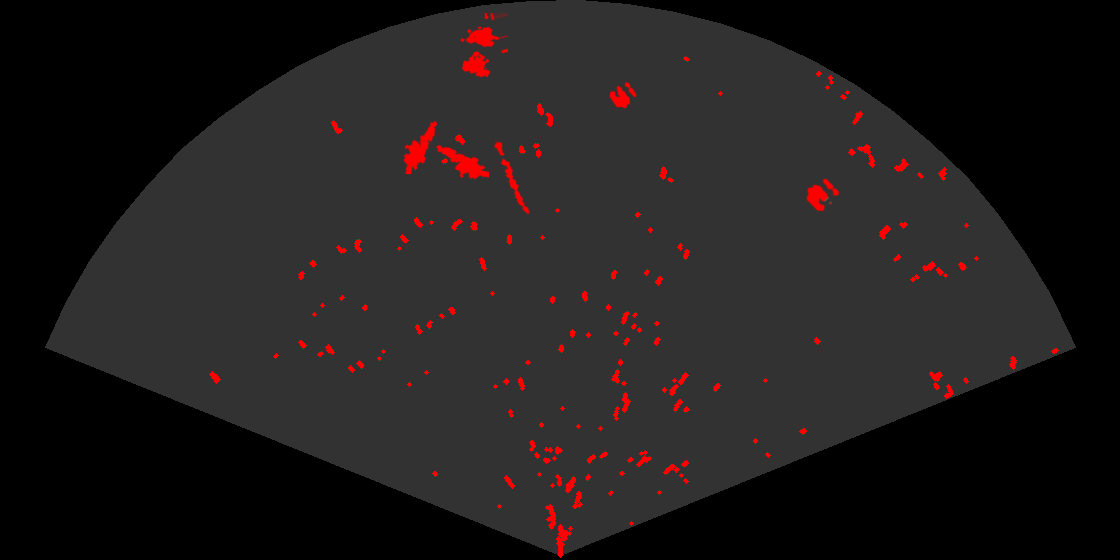ball: (805, 177, 841, 213), (608, 80, 638, 110)
cage: (459, 13, 508, 79)
chain: (492, 137, 531, 217)
frogman: (434, 144, 489, 181), (402, 119, 439, 174)
